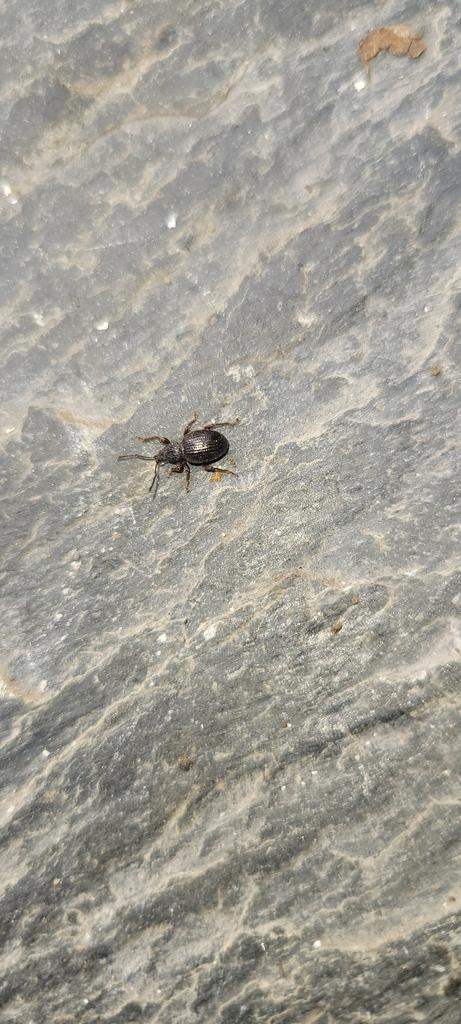weevils: (94, 397, 263, 533)
